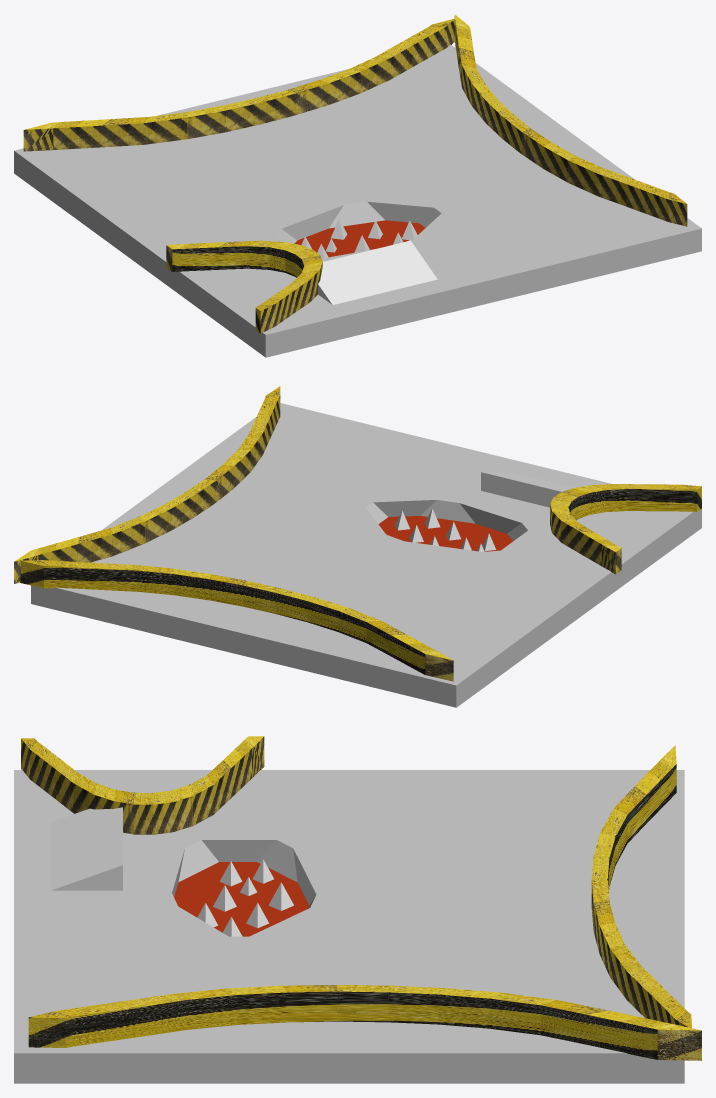
Rendered from WNRoad.fbx.
3 renders of one model, top to bottom at view 1: azimuth 30°, elevation 25°; view 2: azimuth 150°, elevation 25°; view 3: azimuth 270°, elevation 25°, orthographic. The views are drawn at different scales.
Visible parts, largest first — view 1: Cube, Cube.005, Cube.003, Cube.002, Cube.001, Cube.004; view 2: Cube, Cube.005, Cube.003, Cube.002, Cube.004, Cube.001; view 3: Cube, Cube.003, Cube.002, Cube.005, Cube.001, Cube.004.
Boxes of the visible parts, bbox=[...] form: Cube: bbox=[14, 44, 701, 357]; Cube.005: bbox=[23, 18, 454, 151]; Cube.003: bbox=[454, 14, 687, 226]; Cube.002: bbox=[166, 240, 322, 333]; Cube.001: bbox=[318, 240, 437, 304]; Cube.004: bbox=[294, 220, 425, 257]; Cube: bbox=[31, 403, 701, 707]; Cube.005: bbox=[20, 560, 453, 681]; Cube.003: bbox=[14, 386, 280, 583]; Cube.002: bbox=[550, 484, 701, 574]; Cube.004: bbox=[378, 516, 512, 551]; Cube.001: bbox=[481, 471, 573, 507]; Cube: bbox=[14, 770, 684, 1083]; Cube.003: bbox=[28, 985, 701, 1060]; Cube.002: bbox=[21, 736, 264, 834]; Cube.005: bbox=[591, 745, 691, 1027]; Cube.001: bbox=[50, 807, 122, 890]; Cube.004: bbox=[174, 862, 309, 936].
Bounding box in the file's own units: 4152 × 548 × 4104.
